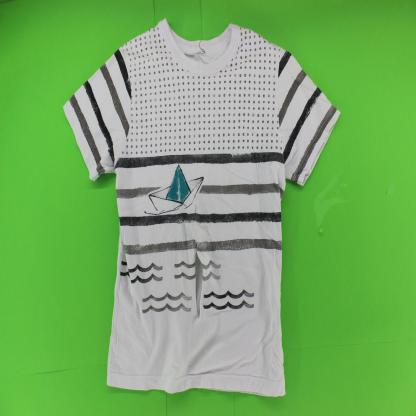hole: (194, 247, 205, 320)
